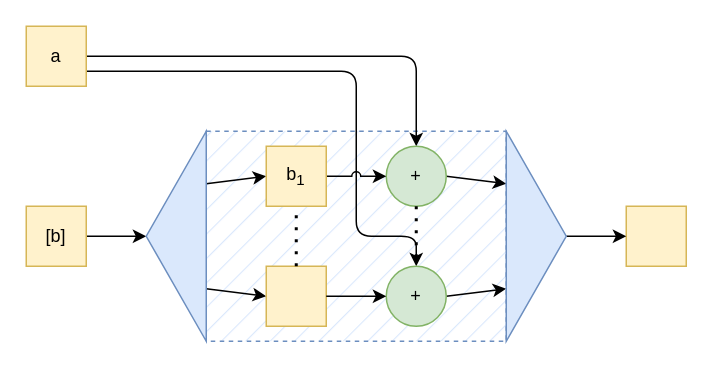
Some shapes in this 713 by 368 pixel diagram are drawn without their labels. The shapes that lost their labels are listed below. From the top down, each one's box as (x1, y1, x2, y2) in pixels, then its label:
(145, 130, 206, 341): map
(625, 205, 686, 266): [c]
(265, 265, 326, 326): b n
